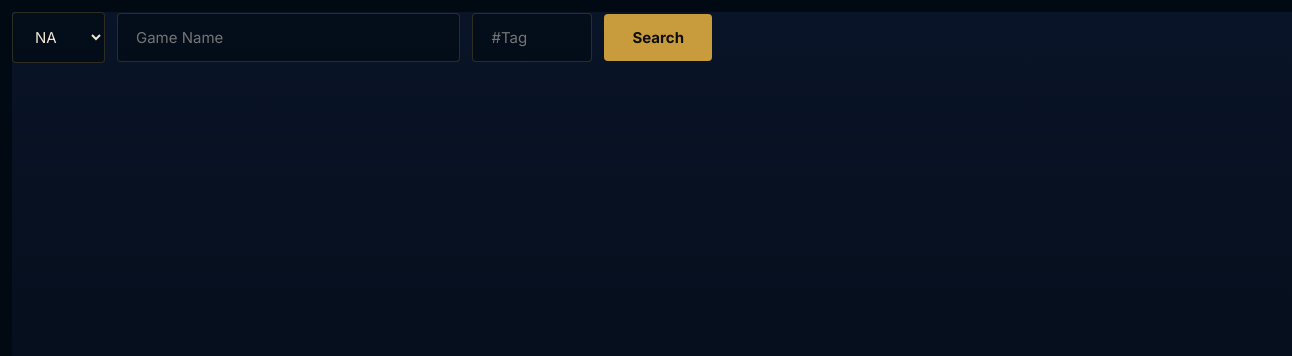
Test case: SearchBar › splits a full Riot ID pasted into the tag box when the name is empty
Click the field with placeholder "#Tag" at (532, 38), box [472, 13, 592, 62]
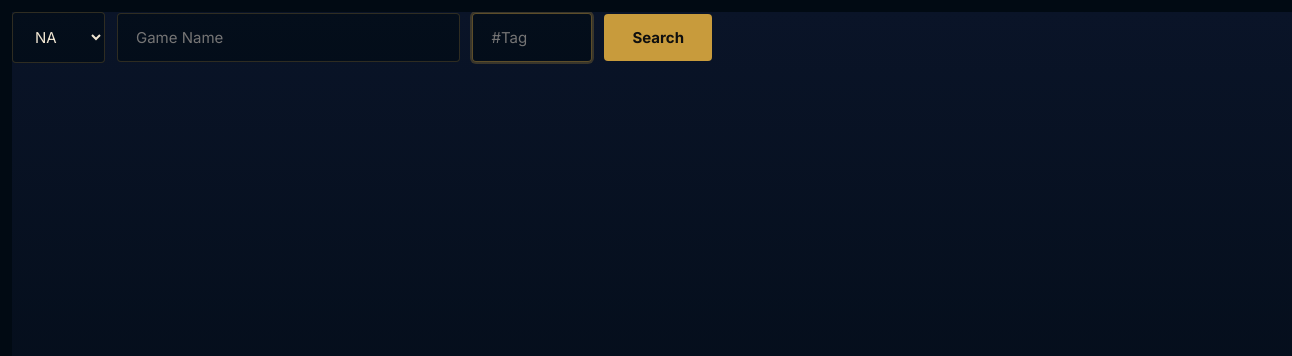
Type keys "Faker#KR1"
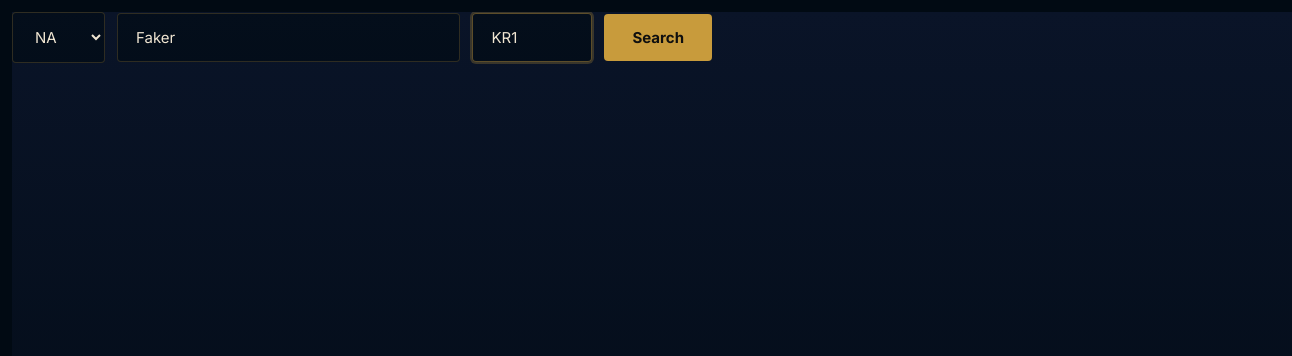
Expected: the 1st field with placeholder "Game Name" holds "Faker", [117, 13, 460, 62]
Expected: the 2nd field with placeholder "#Tag" holds "KR1", [472, 13, 592, 62]
